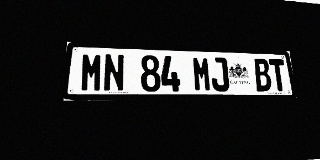4: (160, 55, 181, 92)
8: (141, 55, 161, 92)
B: (253, 58, 272, 91)
J: (210, 57, 230, 91)
M: (80, 53, 103, 92), (192, 56, 212, 91)
N: (103, 54, 125, 92)
T: (269, 59, 288, 91)
